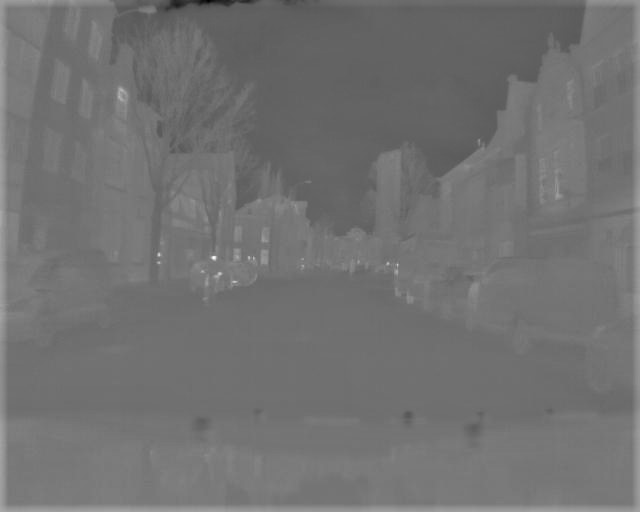car: (464, 254, 602, 365), (1, 243, 115, 349), (582, 315, 640, 395), (422, 264, 490, 325), (225, 259, 259, 291)
person: (196, 251, 224, 308)
